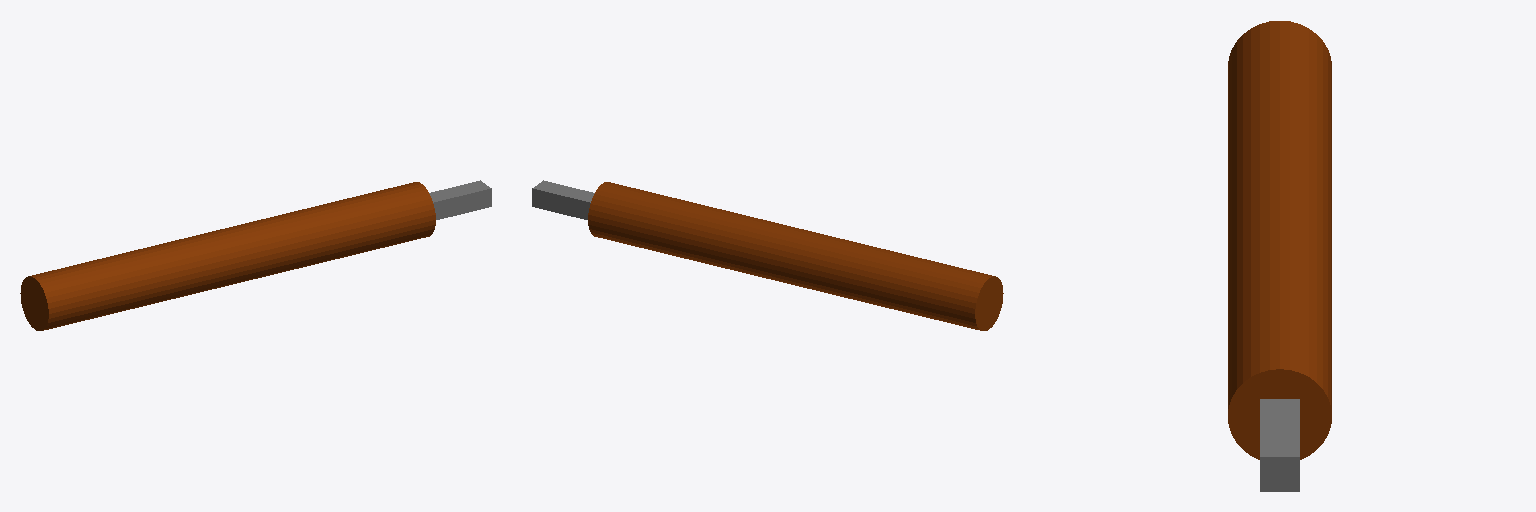
robot.urdf — handle_head:
<?xml version="1.0"?>
<robot name="handle_head">

  <link name="handle_head">
    <!-- Handle -->
    <visual>
              <origin xyz="0 0 0" rpy="0 -1.5707963267948966 0"/>
        <geometry>
          <cylinder length="0.14470676959744866" radius="0.00916919163864818"/>
        </geometry>
        
      <material name="brown">
        <color rgba="0.55 0.27 0.07 1.0"/>
      </material>
    </visual>
    <collision>
              <origin xyz="0 0 0" rpy="0 -1.5707963267948966 0"/>
        <geometry>
          <cylinder length="0.14470676959744866" radius="0.00916919163864818"/>
        </geometry>
        
    </collision>

    <!-- Head -->
    <visual>
              <origin xyz="0.08436286235147844 0 0" rpy="0 0 0"/>
        <geometry>
          <box size="0.024018955105508222 0.007085430732773906 0.006612870464570866"/>
        </geometry>
        
      <material name="gray">
        <color rgba="0.5 0.5 0.5 1.0"/>
      </material>
    </visual>
    <collision>
              <origin xyz="0.08436286235147844 0 0" rpy="0 0 0"/>
        <geometry>
          <box size="0.024018955105508222 0.007085430732773906 0.006612870464570866"/>
        </geometry>
        
    </collision>

    <inertial>
      <origin xyz="0.002445623232249543 0 0" rpy="0 0 0"/>
      <mass value="0.018805083323314403"/>
      <inertia ixx="7.599012729424604e-07" iyy="4.173336212844828e-05" izz="4.1733656202141895e-05" ixy="0" ixz="0" iyz="0"/>
    </inertial>
  </link>

</robot>

--- What the picture shows (computed from the rendered views, not written in the file) ---
Views: 3 orthographic renders of the robot side by side, from view 1: azimuth 30°, elevation 25°; view 2: azimuth 150°, elevation 25°; view 3: azimuth 270°, elevation 25°.
Robot: handle_head — 1 links, 0 joints (none); root link handle_head; default pose: every joint at zero.
Visible links, largest first — view 1: handle_head; view 2: handle_head; view 3: handle_head.
Link boxes in pixels (left/top/right/bottom): handle_head: left=20, top=180, right=491, bottom=330; handle_head: left=532, top=180, right=1003, bottom=330; handle_head: left=1228, top=21, right=1331, bottom=491.
Size in the robot's own frame: 0.1687 by 0.0183 by 0.0183 metres.
Geometry: primitives only (box / cylinder / sphere), no mesh files.
